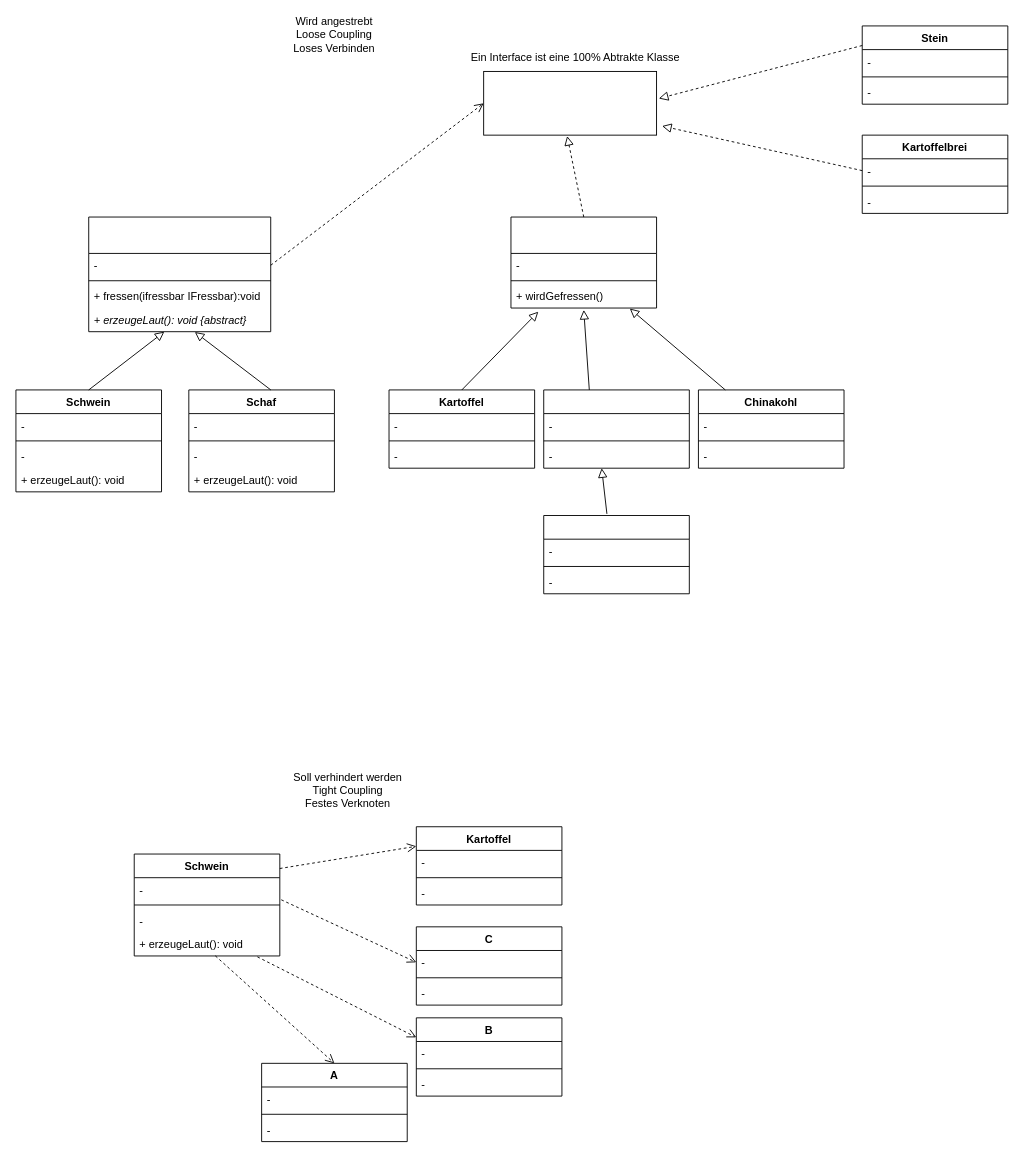
The diagram is 1024 pixels wide and 1160 high, and some of its shapes have lost their labels. The box of each missing label's shape, as (x1, y1, x2, y2) in pixels:
<<Interface>> IFressbar + wirdGefressen(): void: (483, 71, 657, 135)
AGemuese {abstract}: (510, 216, 657, 308)
ATier {abstract}: (88, 216, 271, 332)
Moehre: (543, 389, 689, 468)
RegenbogenMoehre: (543, 515, 689, 594)
